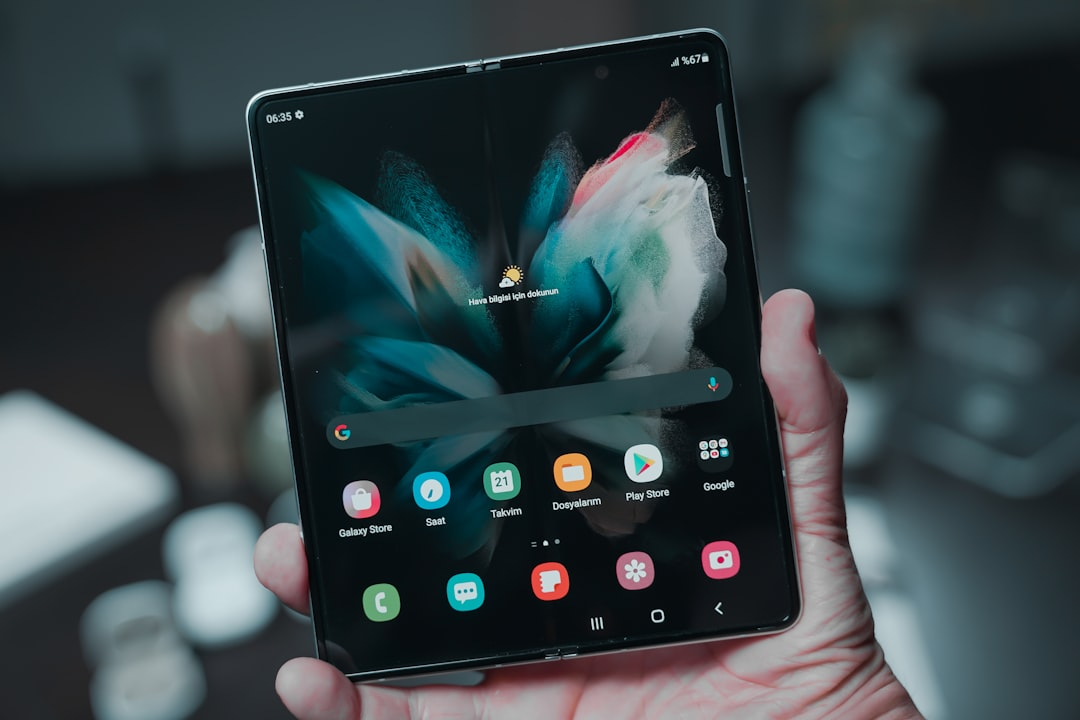phone: (246, 29, 804, 678)
